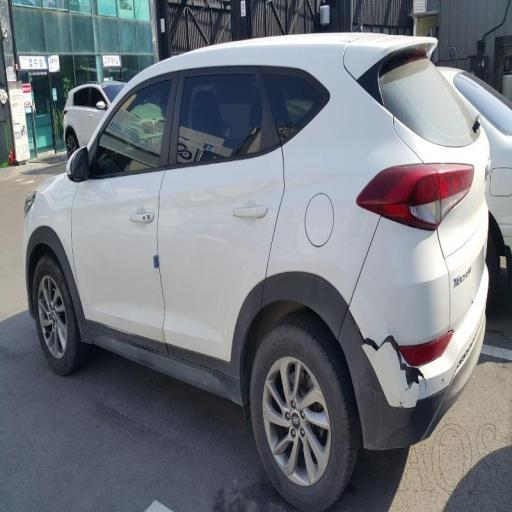broken: (342, 271, 468, 430)
